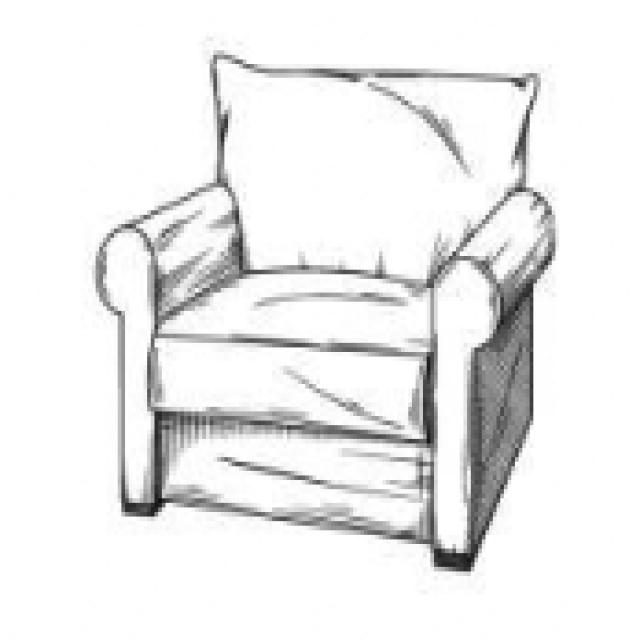Backrest: (212, 54, 541, 279)
Seat: (148, 269, 438, 442)
sofa_armrest: (95, 175, 244, 514), (428, 185, 557, 557)
